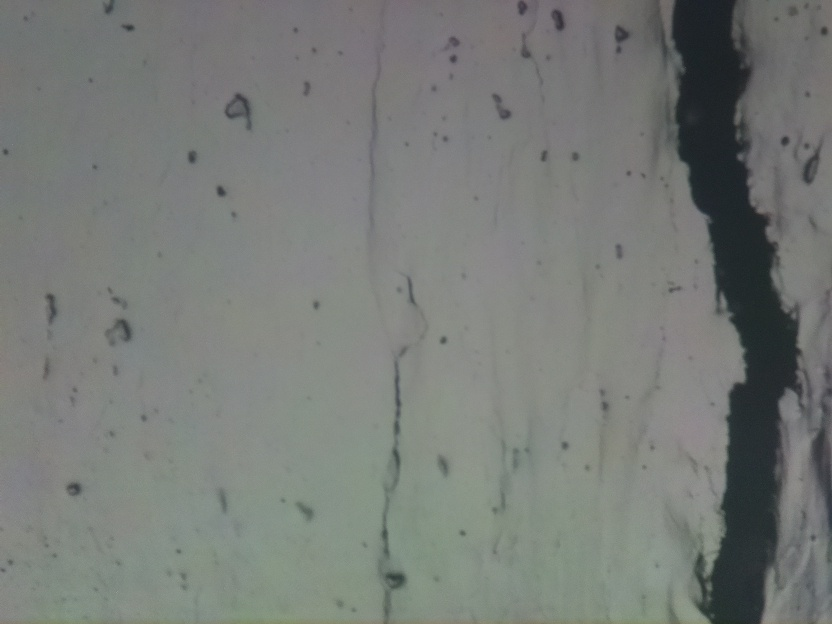crack: (673, 0, 794, 622)
